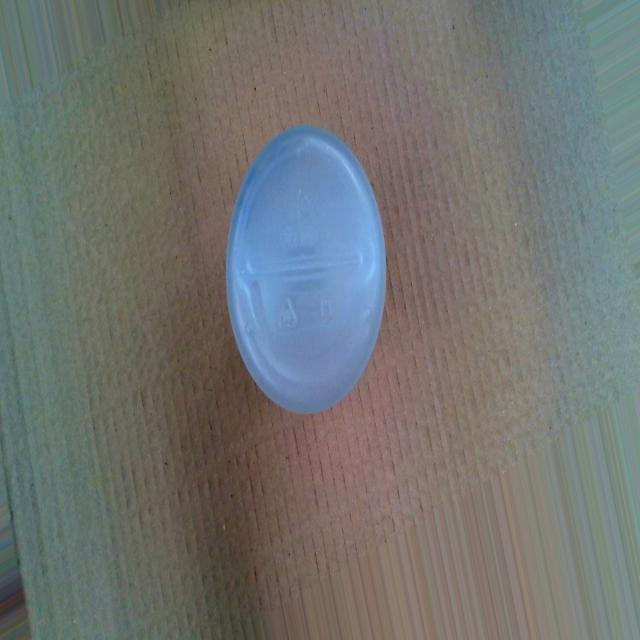bottle: (226, 124, 389, 419)
